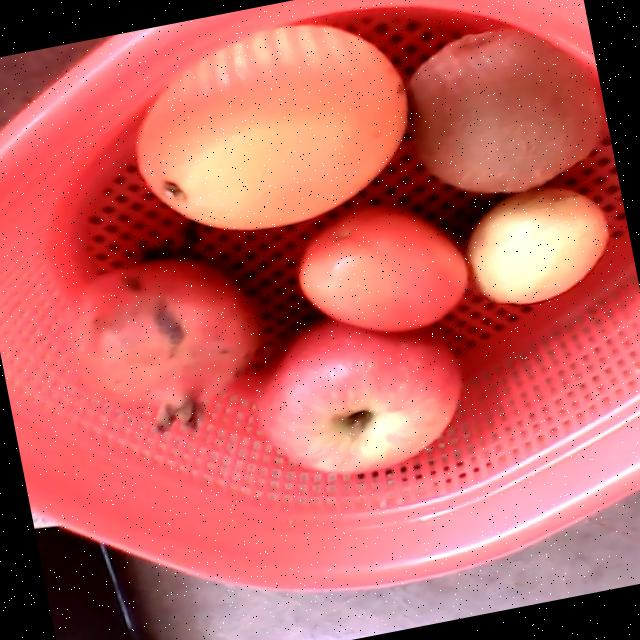apple: (259, 317, 463, 474)
kiwi: (410, 27, 603, 193)
lemon: (468, 187, 611, 304)
orange: (136, 24, 408, 231)
pomegranate: (63, 259, 263, 431)
tomato: (298, 205, 467, 332)
